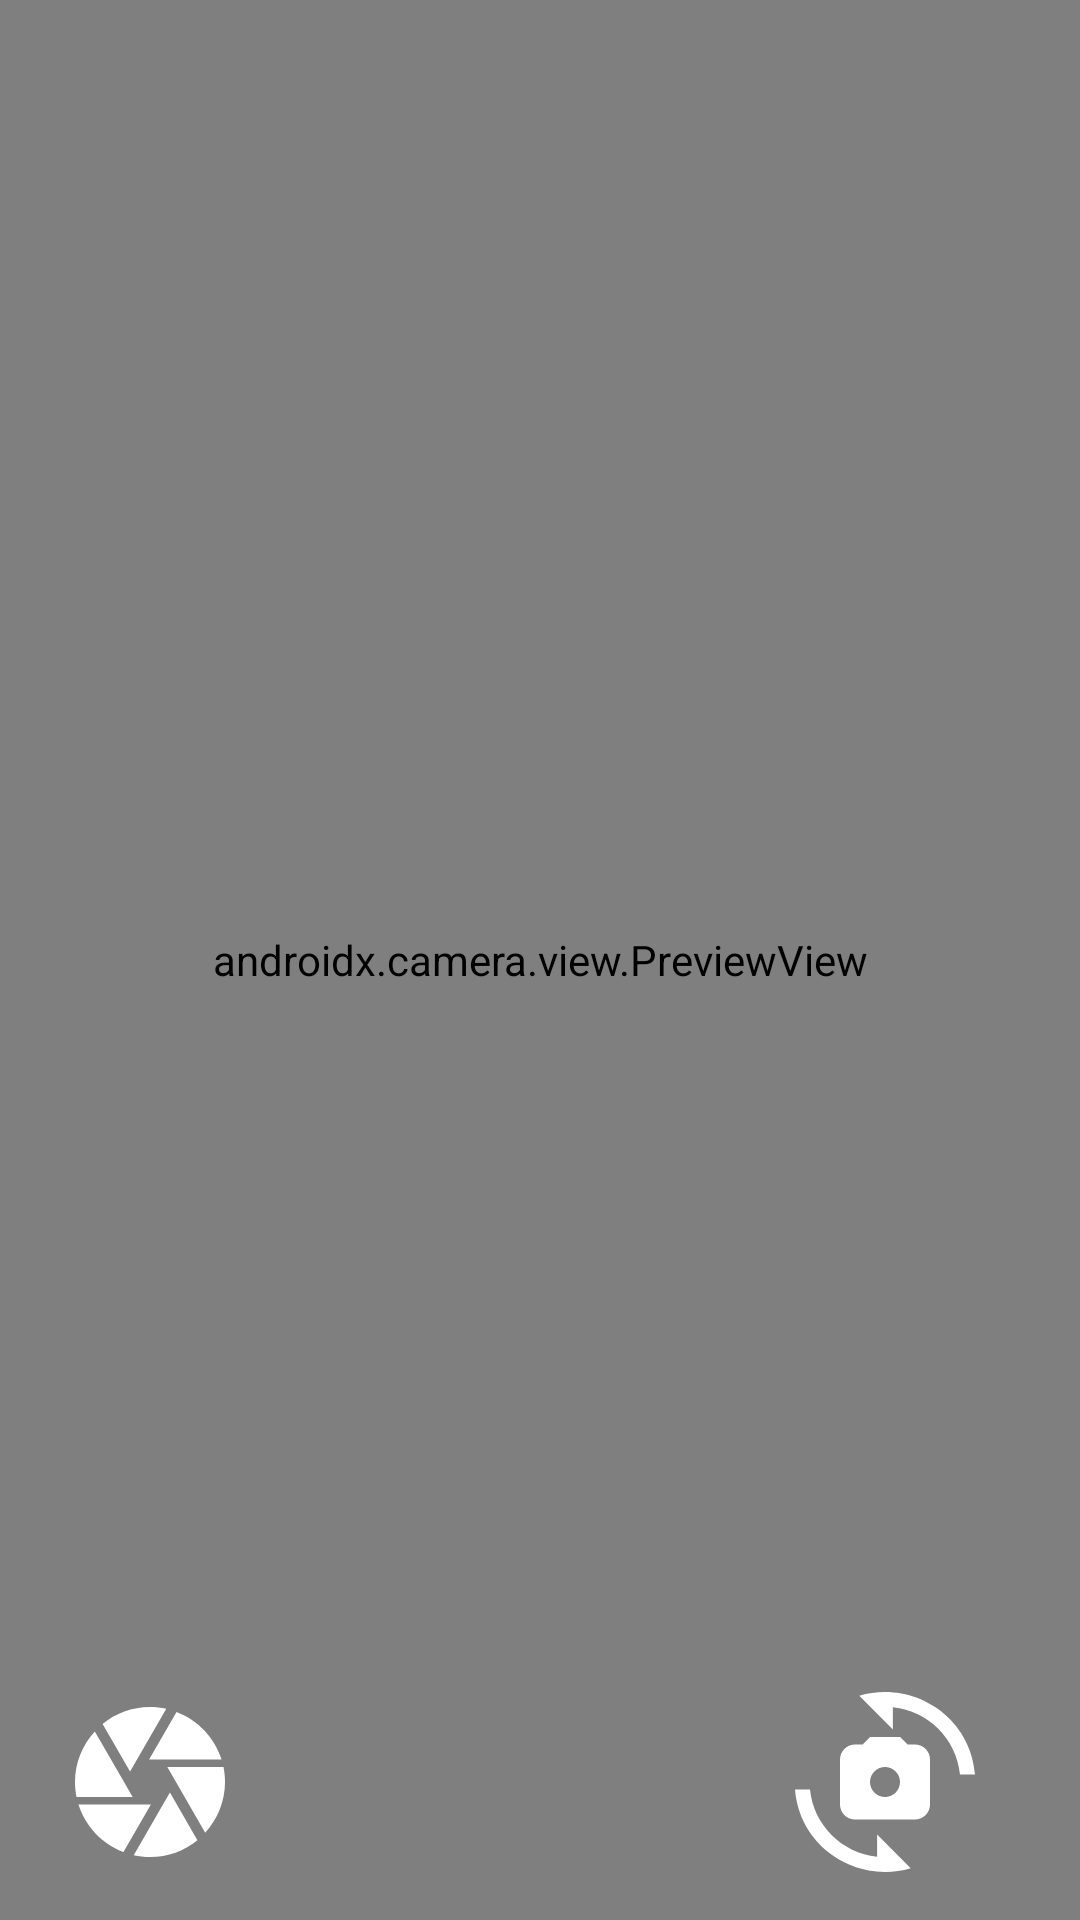

Named icons in this screenshot (1080px×1920px) and their centers, (x=x, y=y):
cameraswitch: (x=885, y=1782)
